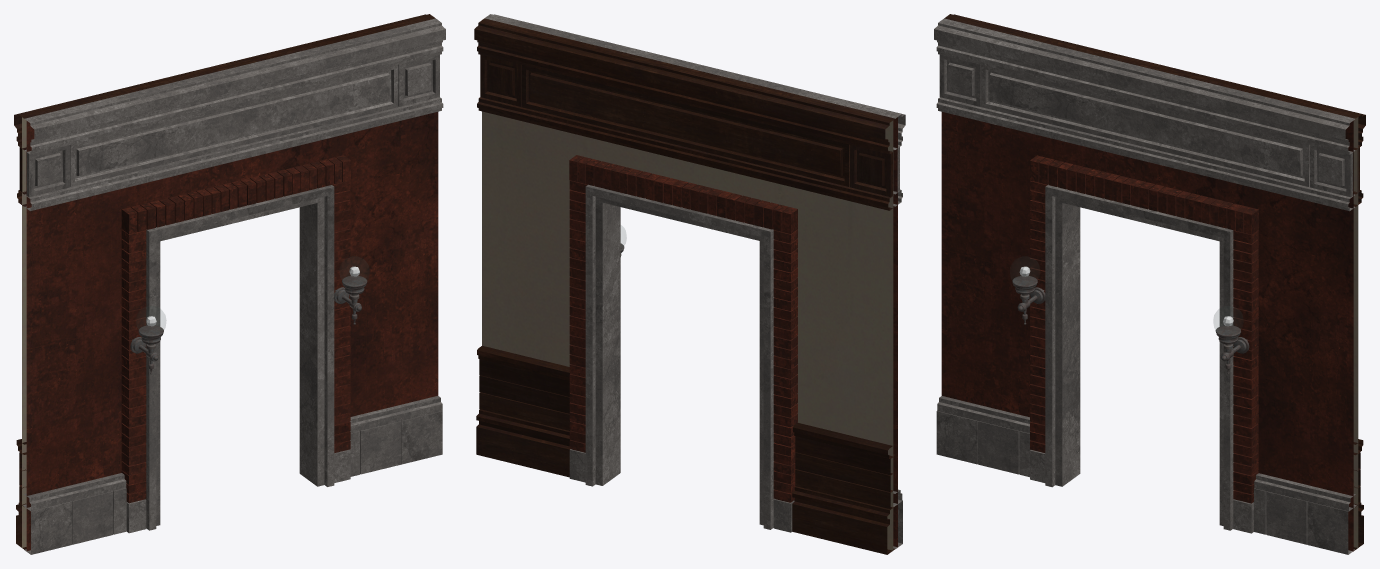
File: SK6 DOOR 2.fbx
The picture shows the model from 3 angles, left to right: view 1: azimuth 30°, elevation 25°; view 2: azimuth 150°, elevation 25°; view 3: azimuth 330°, elevation 25°; orthographic projection.
Parts seen in each view (by area): view 1: SK6 DOOR 2; view 2: SK6 DOOR 2; view 3: SK6 DOOR 2.
Boxes of the visible parts, x1,y1,x2,y2 form: SK6 DOOR 2: [14, 14, 445, 554]; SK6 DOOR 2: [474, 14, 905, 554]; SK6 DOOR 2: [934, 14, 1365, 554].
Bounding box in the file's own units: 400 × 400 × 71.62.
